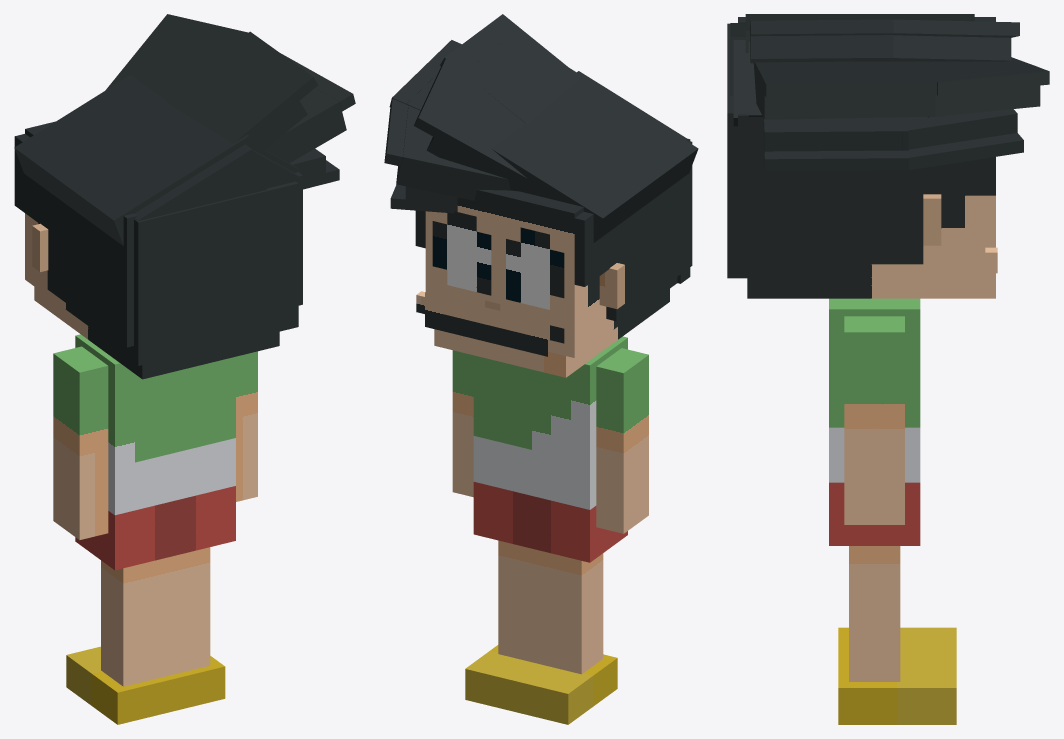
3 views of the same model, side by side, from view 1: azimuth 30°, elevation 25°; view 2: azimuth 150°, elevation 25°; view 3: azimuth 270°, elevation 25° (orthographic). The views are drawn at different scales.
Visible parts, largest first — view 1: head (×5), bone22, body (×3), leftLeg (×2), leftArm, bone19 (×2), rightLeg (×2), bone20 (×2), xiezi, bone8, bone23 (×2), rightArm (+4 smaller); view 2: head (×6), bone22, body (×3), leftLeg (×2), leftArm, bone20 (×2), rightLeg (×2), bone19 (×2), bone24 (×2), xiezi, rightArm, xiezi2 (+3 smaller); view 3: head (×5), rightArm, bone23 (×2), rightLeg (×2), bone25 (×2), body (×2), xiezi2, bone19 (×2), bone24 (×2), bone21 (×2), bone20 (×2), xiezi (+3 smaller).
Part boxes in pixels (x1,y1,x2,y2): head (×5): (14,121,298,379); bone22: (14,75,254,245); body (×3): (75,334,235,515); leftLeg (×2): (75,500,175,686); leftArm: (53,346,108,539); bone19 (×2): (165,31,317,149); rightLeg (×2): (167,486,235,675); bone20 (×2): (105,14,248,113); xiezi: (66,646,171,724); bone8: (134,144,266,220); bone23 (×2): (265,53,355,163); rightArm: (236,351,257,501); head (×6): (425,140,692,377); bone22: (491,68,698,242); body (×3): (473,336,627,509); leftLeg (×2): (532,496,627,674); leftArm: (596,348,648,533); bone20 (×2): (413,58,541,191); rightLeg (×2): (473,482,539,663); bone19 (×2): (440,14,580,123); bone24 (×2): (384,99,510,200); xiezi: (516,654,617,724); rightArm: (452,350,473,497); xiezi2: (465,645,539,712); head (×5): (727,17,995,298); rightArm: (844,316,904,524); bone23 (×2): (753,61,936,119); rightLeg (×2): (829,482,920,681); bone25 (×2): (763,117,908,171); body (×2): (829,298,920,482); xiezi2: (838,657,956,724); bone19 (×2): (749,19,893,63); bone24 (×2): (927,57,1049,117); bone21 (×2): (893,109,1023,169); bone20 (×2): (875,19,1019,61); xiezi: (838,627,956,657).
Bounding box in the file's own units: 0.6859 × 1.67 × 0.6633.
Materials: 1 (1 with a texture image).
